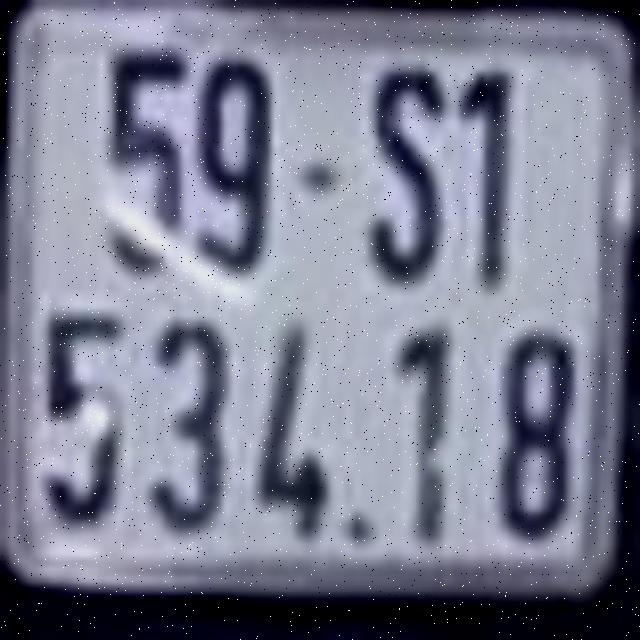1: (456, 62, 521, 291), (395, 321, 453, 544)
3: (150, 316, 227, 532)
4: (258, 321, 330, 541)
5: (106, 45, 186, 276), (43, 308, 125, 524)
8: (500, 326, 574, 541)
9: (195, 54, 272, 275)
S: (368, 62, 448, 284)
